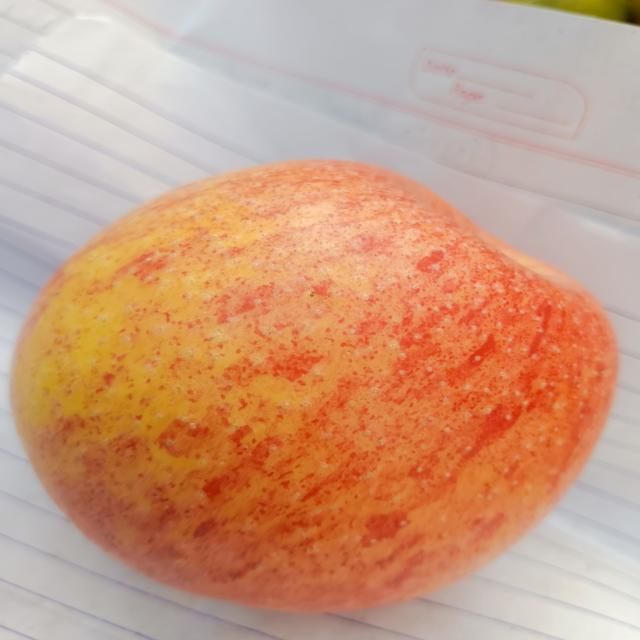Fresh Apple: (15, 165, 640, 603)
